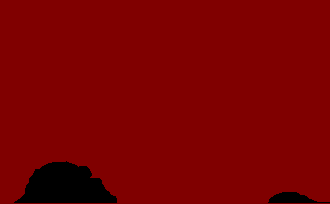Sky: (1, 1, 329, 203)
